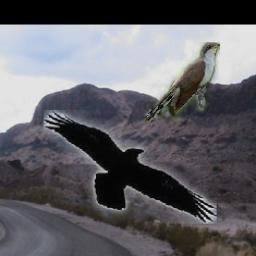Crow: (45, 110, 218, 224)
Cuckoo: (144, 43, 220, 123)
